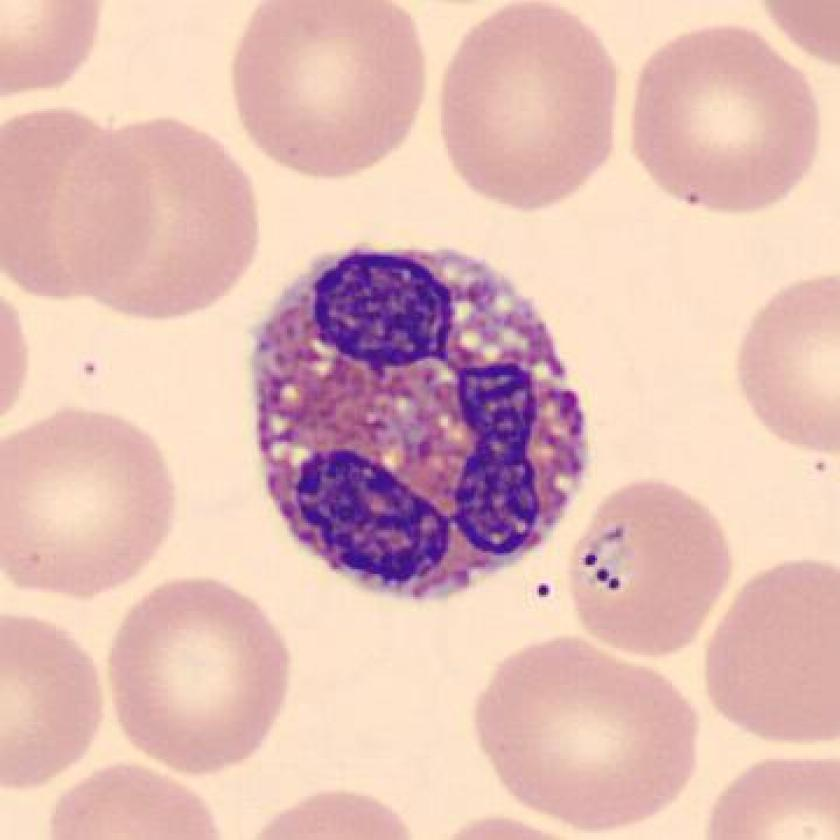eosinophil: (237, 226, 598, 608)
